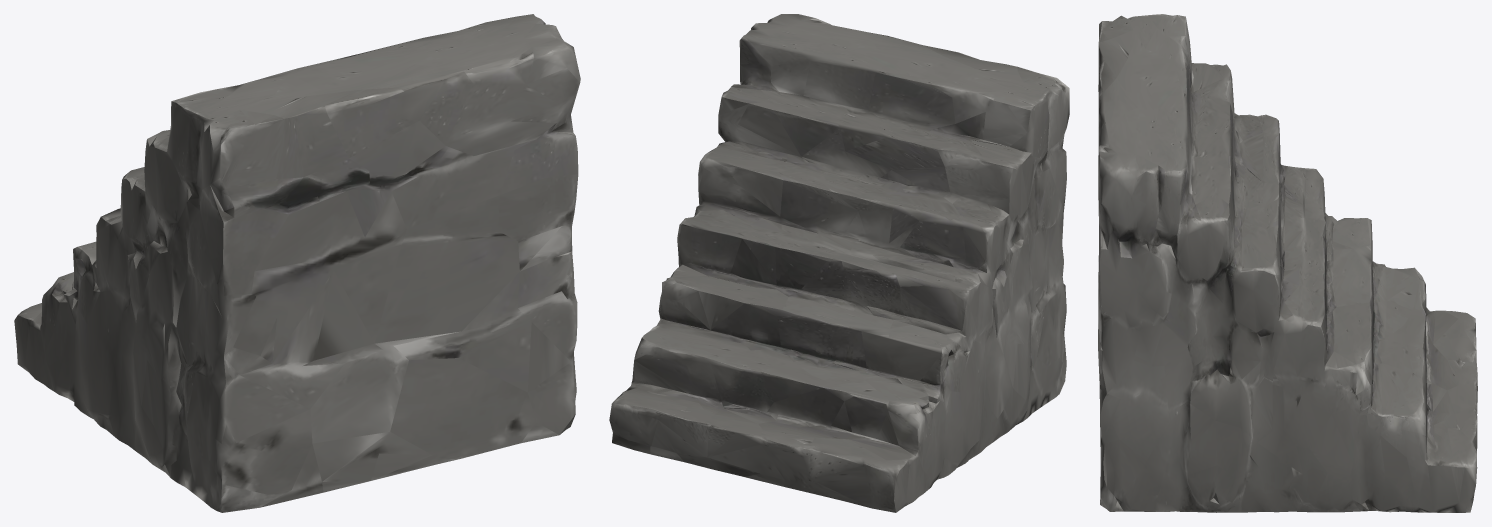
The model's file is stairs-high.glb.
3 renders of one model, left to right at view 1: azimuth 30°, elevation 25°; view 2: azimuth 150°, elevation 25°; view 3: azimuth 270°, elevation 25°, orthographic. The views are drawn at different scales.
Parts seen in each view (by area): view 1: stairs-high; view 2: stairs-high; view 3: stairs-high.
Part boxes in pixels (x1,y1,x2,y2): stairs-high: (14,14,580,512); stairs-high: (609,14,1069,512); stairs-high: (1098,14,1477,512).
Bounding box in the file's own units: 1 × 1 × 1.
1 material, 1 textured.
